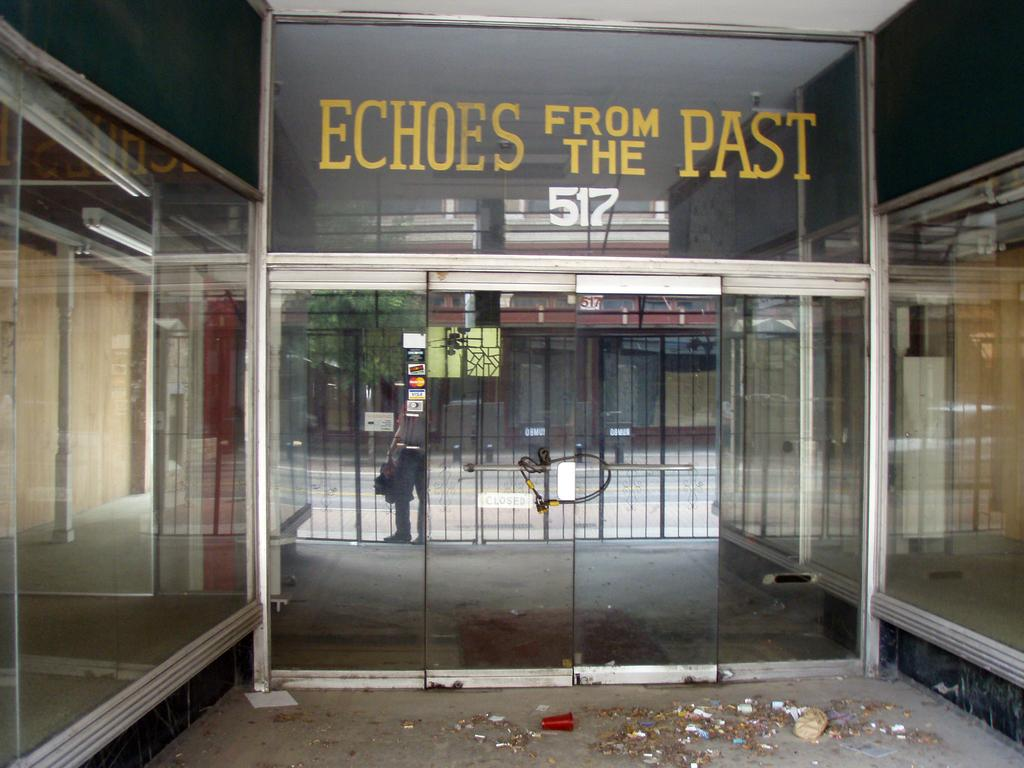handle: (584, 458, 698, 479), (467, 457, 559, 478)
